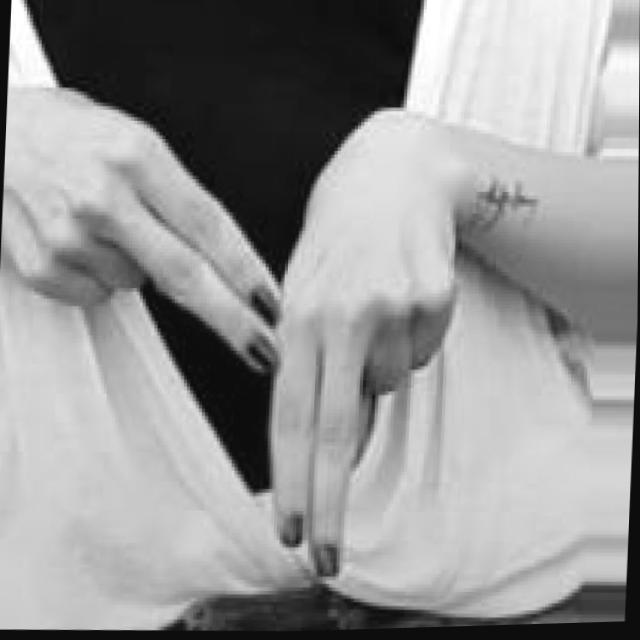K: (0, 73, 470, 597)
